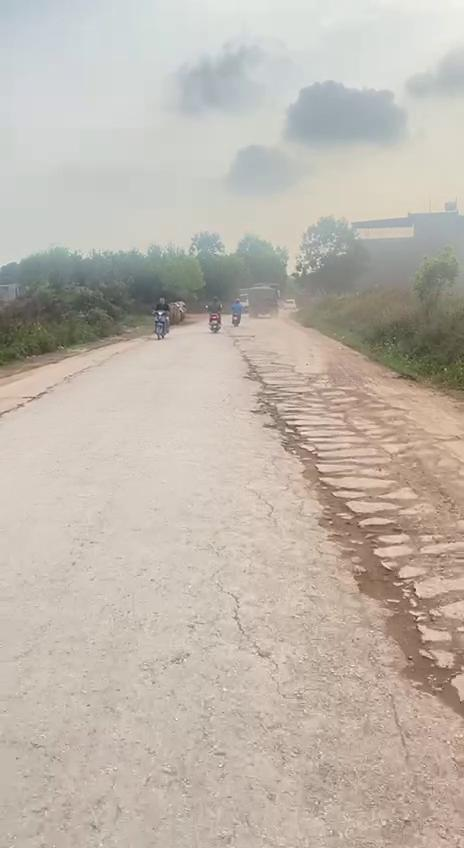pothole: (310, 486, 423, 602), (379, 598, 464, 724), (263, 402, 334, 492), (244, 356, 296, 416)
